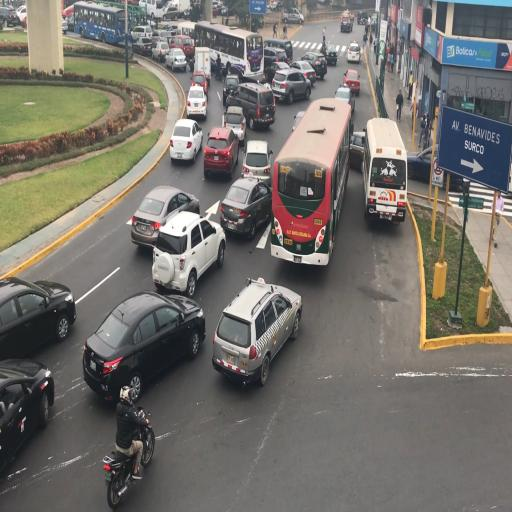auto: (82, 290, 202, 395), (211, 277, 301, 387), (0, 360, 54, 486), (1, 276, 76, 362), (152, 209, 225, 295), (129, 183, 199, 250), (220, 174, 272, 237), (224, 80, 274, 131), (203, 124, 240, 178), (270, 70, 310, 105), (169, 119, 202, 161), (242, 138, 272, 184), (221, 105, 247, 146), (168, 34, 196, 66), (185, 82, 208, 120), (288, 59, 318, 87), (300, 51, 327, 79), (348, 130, 366, 172), (222, 74, 242, 106), (138, 0, 164, 22), (334, 85, 353, 114), (344, 69, 361, 97), (151, 27, 174, 47), (152, 40, 171, 64), (321, 43, 339, 67), (0, 4, 18, 26), (281, 8, 304, 24), (347, 42, 361, 64), (162, 4, 179, 21), (340, 12, 353, 33), (212, 0, 226, 15), (356, 12, 366, 24)
bus: (270, 99, 347, 263), (361, 117, 407, 228), (196, 21, 258, 79), (74, 2, 133, 45), (172, 20, 200, 49)
camion: (264, 37, 294, 68), (193, 46, 213, 88)
moto: (102, 406, 159, 509)
